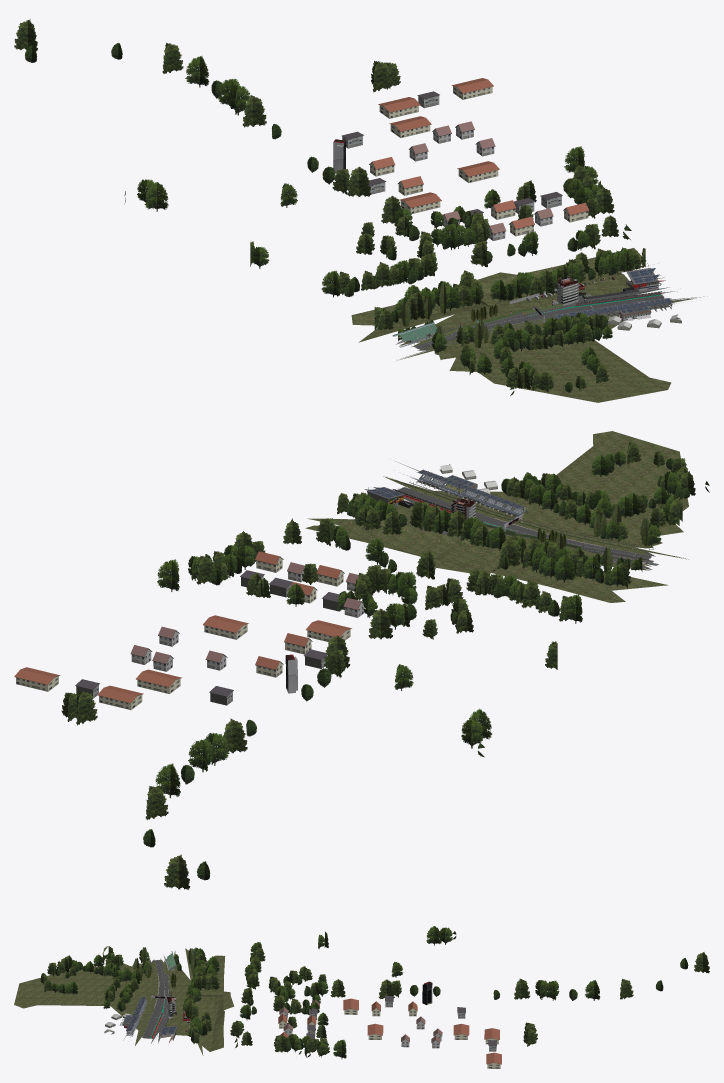
The picture shows the model from 3 angles, top to bottom: view 1: azimuth 30°, elevation 25°; view 2: azimuth 150°, elevation 25°; view 3: azimuth 270°, elevation 25°; orthographic projection. The views are drawn at different scales.
Parts seen in each view (by area): view 1: tile_t09; view 2: tile_t09; view 3: tile_t09.
Boxes of the visible parts, x1=… form: tile_t09: x1=14, y1=19, x2=707, y2=402; tile_t09: x1=14, y1=431, x2=709, y2=889; tile_t09: x1=14, y1=926, x2=709, y2=1068.
Bounding box in the file's own units: 467 × 52.88 × 1072.
Materials: 41 (40 with a texture image).
